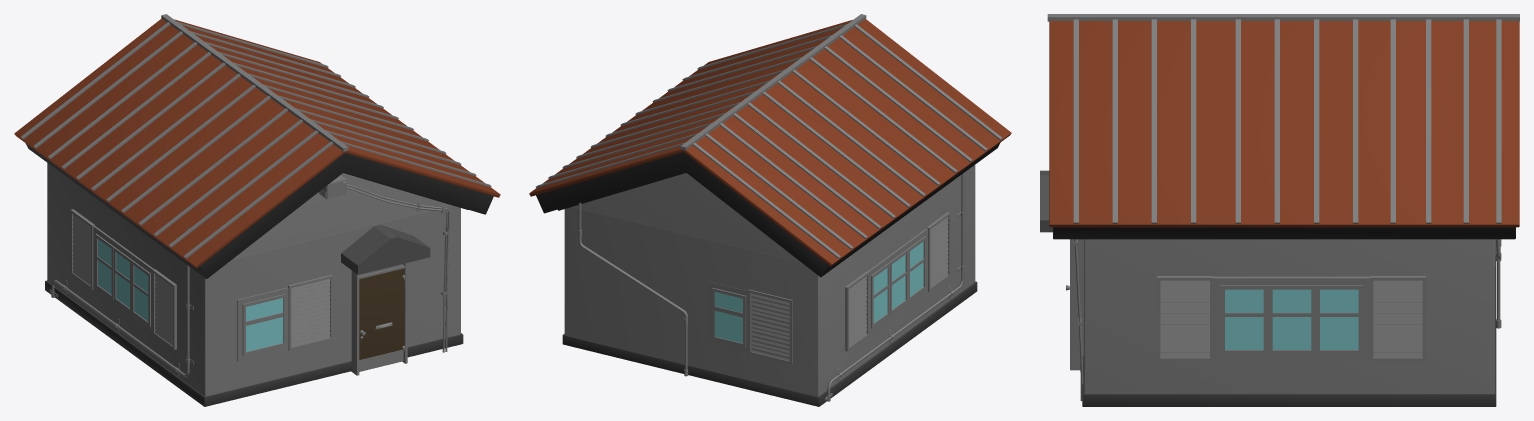
File: SM_house_residential_building_03.fbx
The picture shows the model from 3 angles, left to right: view 1: azimuth 30°, elevation 25°; view 2: azimuth 150°, elevation 25°; view 3: azimuth 270°, elevation 25°; orthographic projection. The views are drawn at different scales.
Parts seen in each view (by area): view 1: Box597; view 2: Box597; view 3: Box597.
Part boxes in pixels (x1,y1,x2,y2): Box597: [14, 14, 500, 406]; Box597: [529, 14, 1011, 406]; Box597: [1040, 14, 1519, 406].
Bounding box in the file's own units: 309 × 233 × 324.
